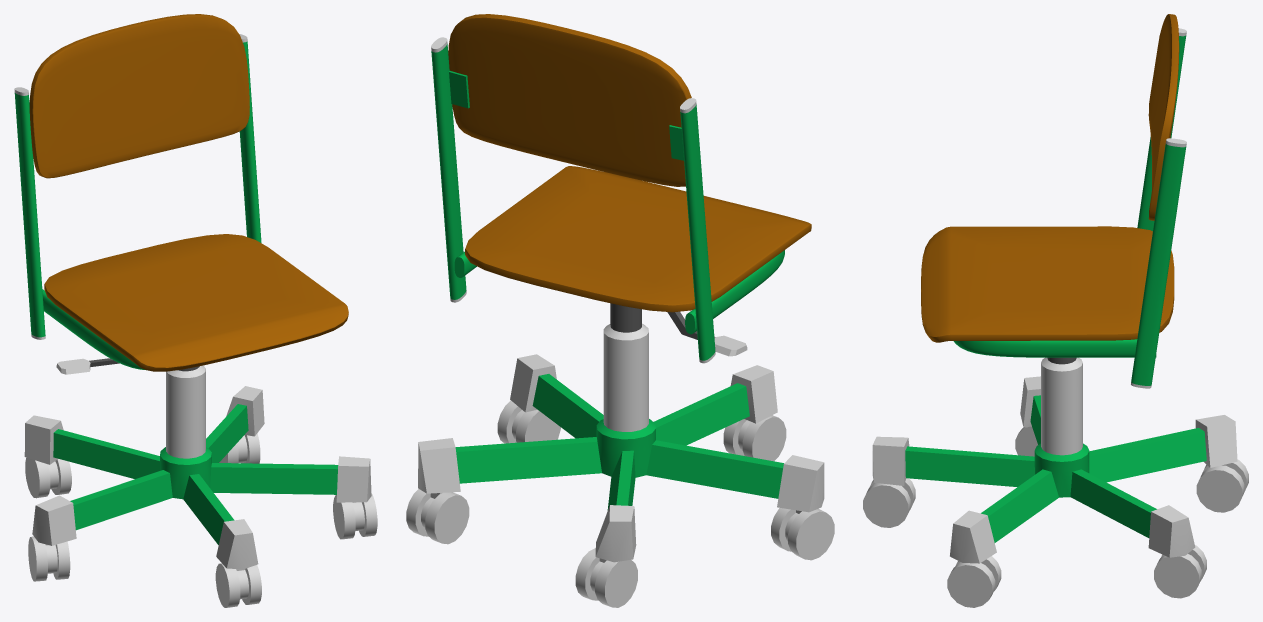
Rendered from zidle-tocici.fbx.
3 renders of one model, left to right at view 1: azimuth 30°, elevation 25°; view 2: azimuth 150°, elevation 25°; view 3: azimuth 270°, elevation 25°, orthographic. The views are drawn at different scales.
Visible parts, largest first — view 1: kovovy-ram; view 2: kovovy-ram; view 3: kovovy-ram.
Boxes of the visible parts, x1,y1,x2,y2 form: kovovy-ram: (14,14,377,607); kovovy-ram: (406,14,834,607); kovovy-ram: (863,14,1248,607).
Bounding box in the file's own units: 77.19 × 111 × 79.28.
